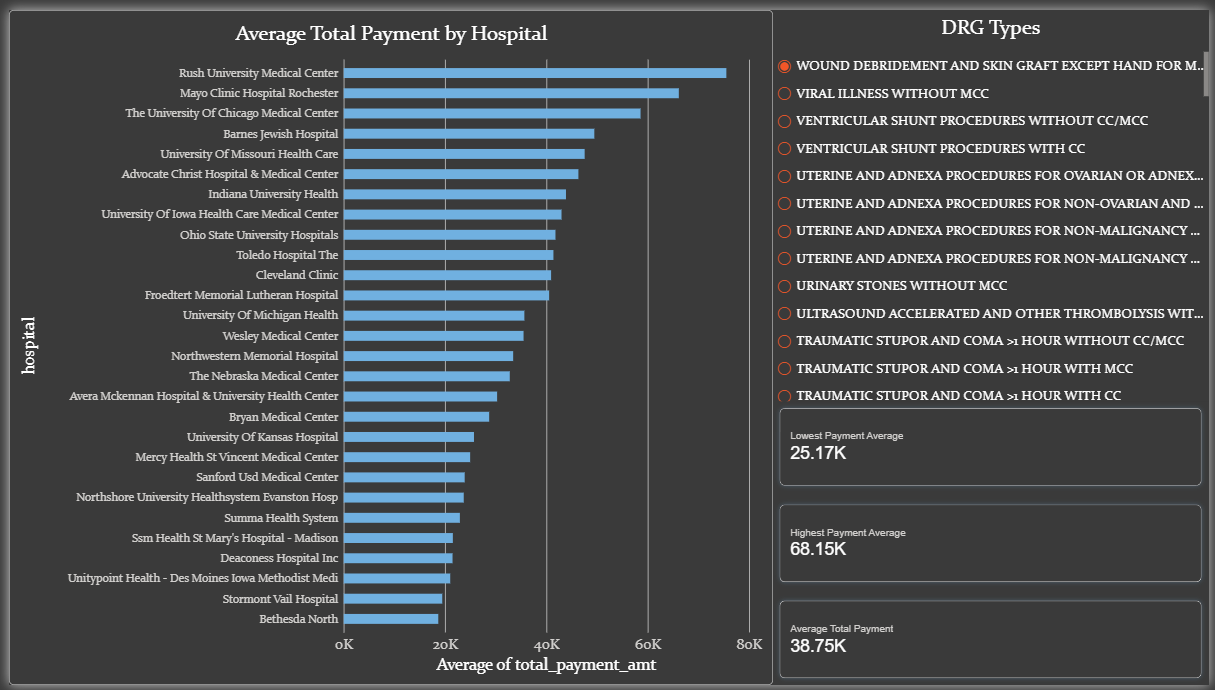

Layout of this report page (visuals, bound fields, positions):
{"tool":"powerbi","page":{"name":"PayperDRG","canvas":[1920,1080],"ordinal":1},"visuals":[{"type":"barChart","title":"Average Total Payment by Hospital","fields":{"Category":["Question1_output.hospital"],"Y":["Avg(Question1_output.total_payment_amt)"]},"box":[0,0,1222.5,1080],"z":0},{"type":"cardVisual","fields":{"Data":["Avg(Question1_output.lowest_payment)","Avg(Question1_output.highest_payment)","Avg(Question1_output.drg_avg_payment)"]},"box":[1222.5,625,697.5,455],"z":1},{"type":"slicer","title":"DRG Types","fields":{"Values":["Question1_output.drg_desc"]},"box":[1222.5,5,697.5,620],"z":2}]}

Visuals, with their boxes in screenshot pixels (x1, y1, x2, y2), scaled from the page's 1920x1080 canvas onto the 1215x690 screenshot:
"Average Total Payment by Hospital" barChart: box=[0, 0, 774, 689]
cardVisual - Avg(Question1_output.lowest_payment) x Avg(Question1_output.highest_payment): box=[774, 399, 1214, 689]
"DRG Types" slicer: box=[774, 3, 1214, 399]
